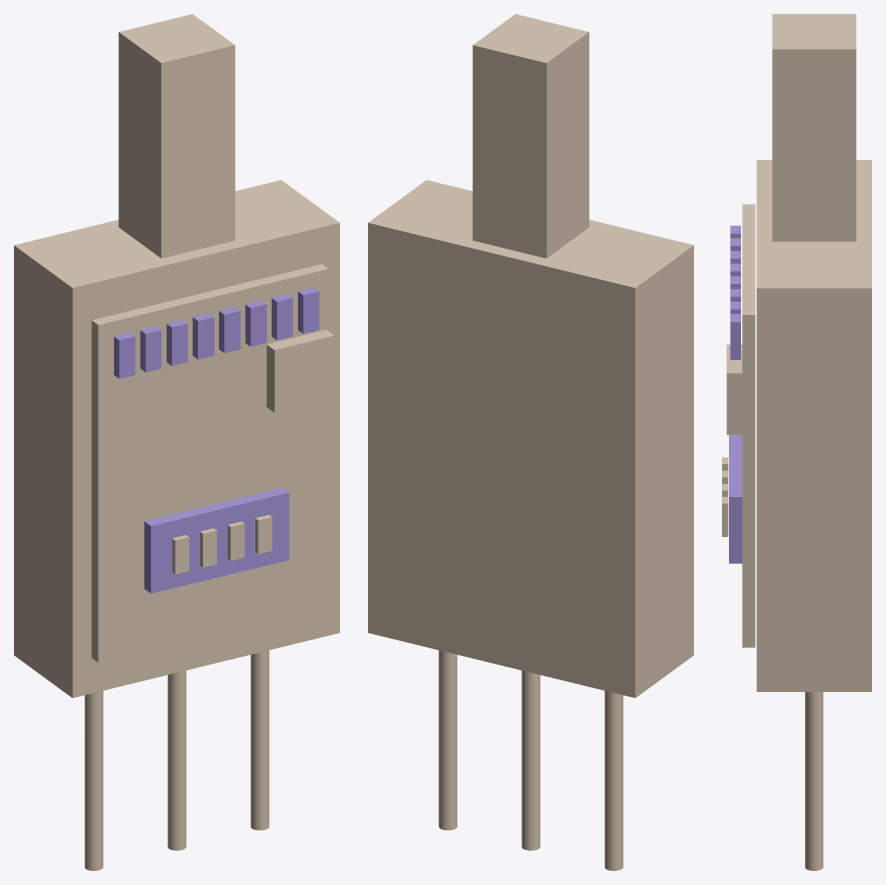
The model's file is boiler.gltf.
3 renders of one model, left to right at view 1: azimuth 30°, elevation 25°; view 2: azimuth 150°, elevation 25°; view 3: azimuth 270°, elevation 25°, orthographic.
Visible parts, largest first — view 1: housing, front_panel, flue, display, gauge, pipe_1, pipe_2, pipe_0, vent_3, vent_0, vent_1, vent_4 (+8 smaller); view 2: housing, flue, pipe_1, pipe_2, pipe_0; view 3: housing, flue, front_panel, pipe_2, display, gauge, vent_7.
Boxes of the visible parts, x1,y1,x2,y2 form: housing: (14, 180, 339, 697); front_panel: (91, 264, 328, 662); flue: (118, 14, 235, 258); display: (144, 487, 289, 593); gauge: (266, 330, 334, 412); pipe_1: (167, 670, 186, 850); pipe_2: (250, 650, 269, 830); pipe_0: (84, 691, 103, 870); vent_3: (192, 313, 214, 359); vent_0: (114, 332, 135, 378); vent_1: (140, 326, 161, 372); vent_4: (219, 307, 240, 353); housing: (368, 180, 693, 697); flue: (472, 14, 589, 258); pipe_1: (521, 670, 540, 850); pipe_2: (438, 650, 457, 830); pipe_0: (604, 691, 623, 870); housing: (756, 160, 871, 691); flue: (772, 14, 856, 241); front_panel: (742, 204, 755, 647); pipe_2: (805, 692, 823, 870); display: (729, 435, 742, 563); gauge: (726, 344, 742, 434); vent_7: (730, 314, 740, 359).
Bounding box in the file's own units: 0.58 × 1.67 × 0.286.
